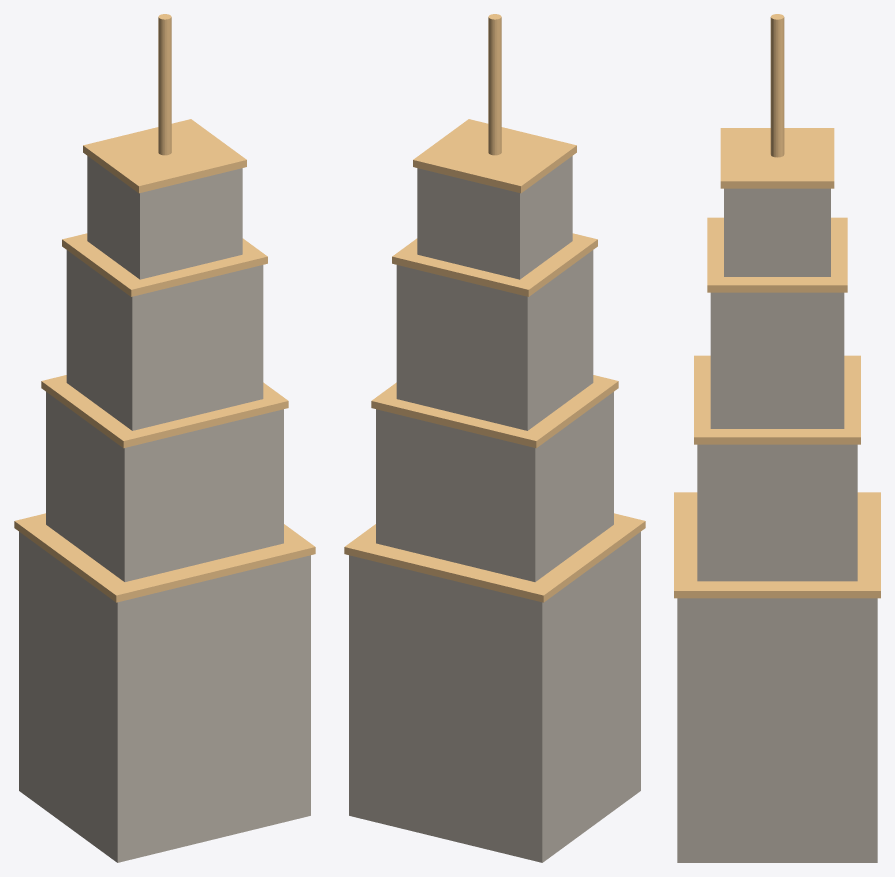
File: JinMao.fbx
3 renders of one model, left to right at view 1: azimuth 30°, elevation 25°; view 2: azimuth 150°, elevation 25°; view 3: azimuth 270°, elevation 25°, orthographic.
Visible parts, largest first — view 1: JM_Tier0, JM_Tier1, JM_Tier2, JM_Tier3, JM_Ring3, JM_Ring0, JM_Ring1, JM_Ring2, JM_Spire; view 2: JM_Tier0, JM_Tier1, JM_Tier2, JM_Tier3, JM_Ring3, JM_Ring0, JM_Ring1, JM_Ring2, JM_Spire; view 3: JM_Tier0, JM_Tier1, JM_Tier2, JM_Tier3, JM_Ring0, JM_Ring3, JM_Ring1, JM_Ring2, JM_Spire.
Part boxes in pixels (x1,y1,x2,y2): JM_Tier0: [19, 532, 310, 862]; JM_Tier1: [46, 392, 283, 581]; JM_Tier2: [66, 250, 263, 430]; JM_Tier3: [87, 156, 242, 279]; JM_Ring3: [83, 119, 246, 193]; JM_Ring0: [14, 513, 315, 602]; JM_Ring1: [41, 375, 288, 448]; JM_Ring2: [62, 233, 267, 296]; JM_Spire: [158, 14, 171, 155]; JM_Tier0: [349, 532, 640, 862]; JM_Tier1: [376, 392, 613, 581]; JM_Tier2: [396, 250, 593, 430]; JM_Tier3: [417, 156, 572, 279]; JM_Ring3: [413, 119, 576, 193]; JM_Ring0: [344, 513, 645, 602]; JM_Ring1: [371, 375, 618, 448]; JM_Ring2: [392, 233, 597, 296]; JM_Spire: [488, 14, 501, 155]; JM_Tier0: [677, 598, 877, 862]; JM_Tier1: [697, 444, 857, 581]; JM_Tier2: [710, 292, 844, 428]; JM_Tier3: [724, 188, 830, 276]; JM_Ring0: [674, 492, 880, 598]; JM_Ring3: [720, 128, 834, 188]; JM_Ring1: [694, 355, 860, 444]; JM_Ring2: [707, 217, 847, 292]; JM_Spire: [770, 14, 784, 157].
Bounding box in the file's own units: 1750 × 6600 × 1550.
